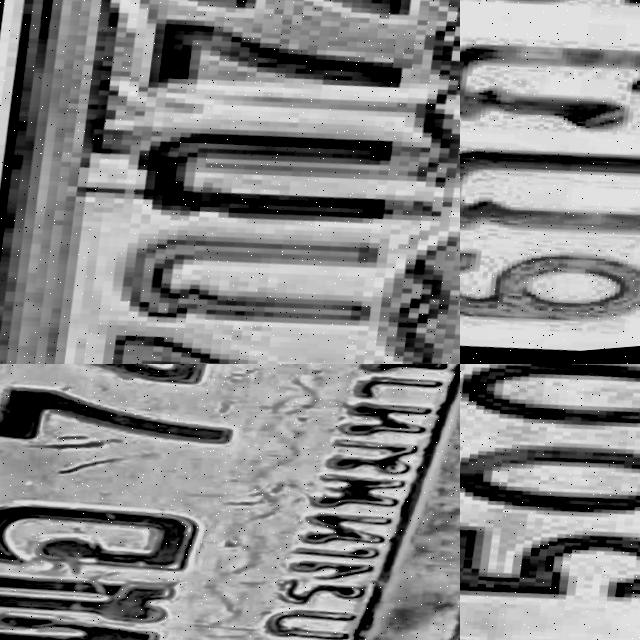license-plate: (0, 0, 460, 364), (0, 364, 460, 640), (460, 0, 640, 364), (460, 364, 640, 640)
